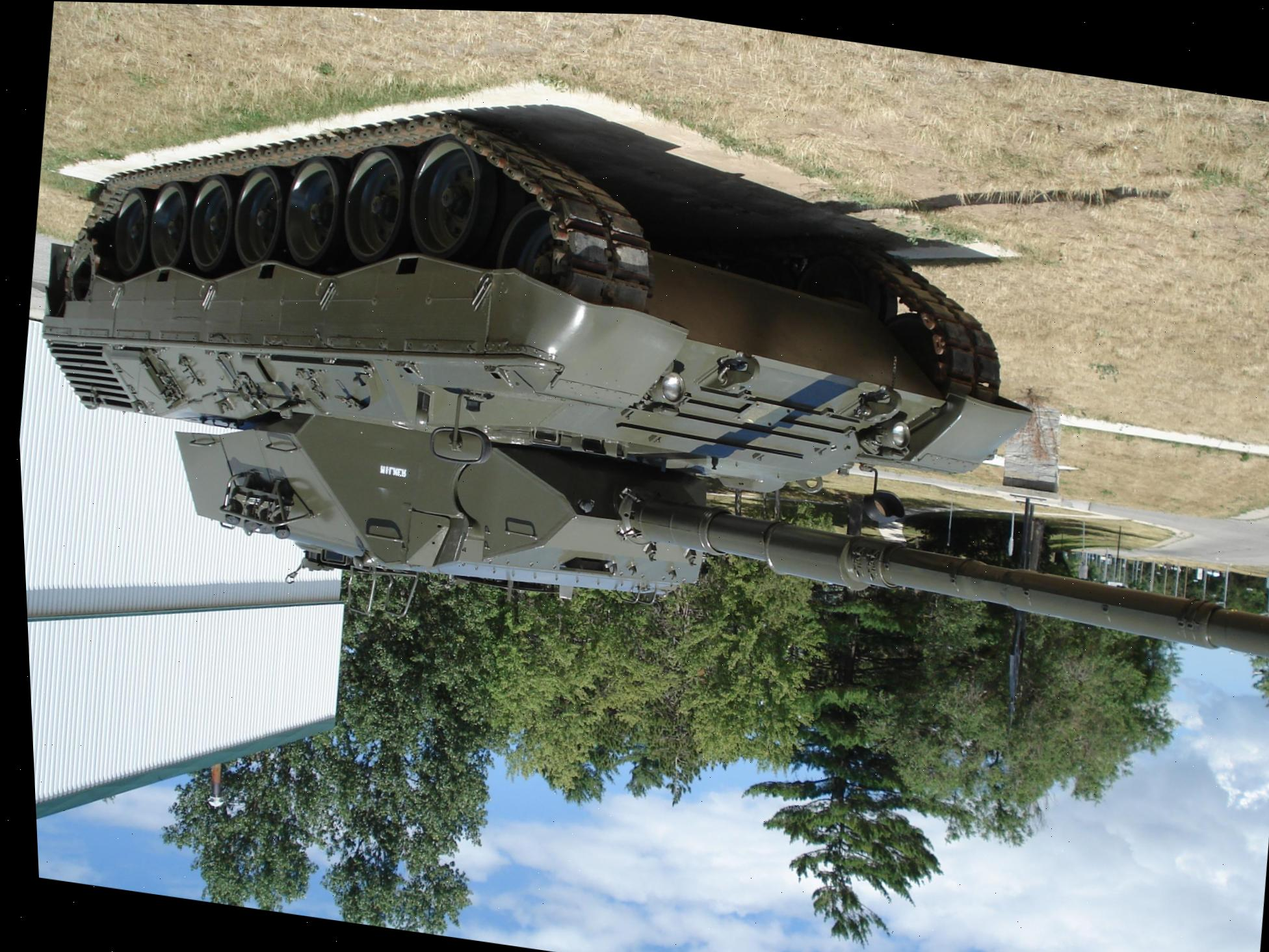tank: (4, 55, 1269, 716)
